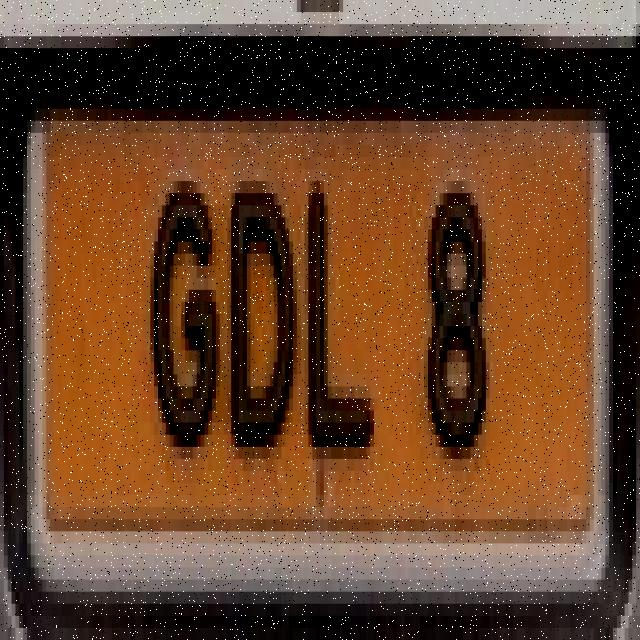licenseplate: (28, 61, 610, 581)
